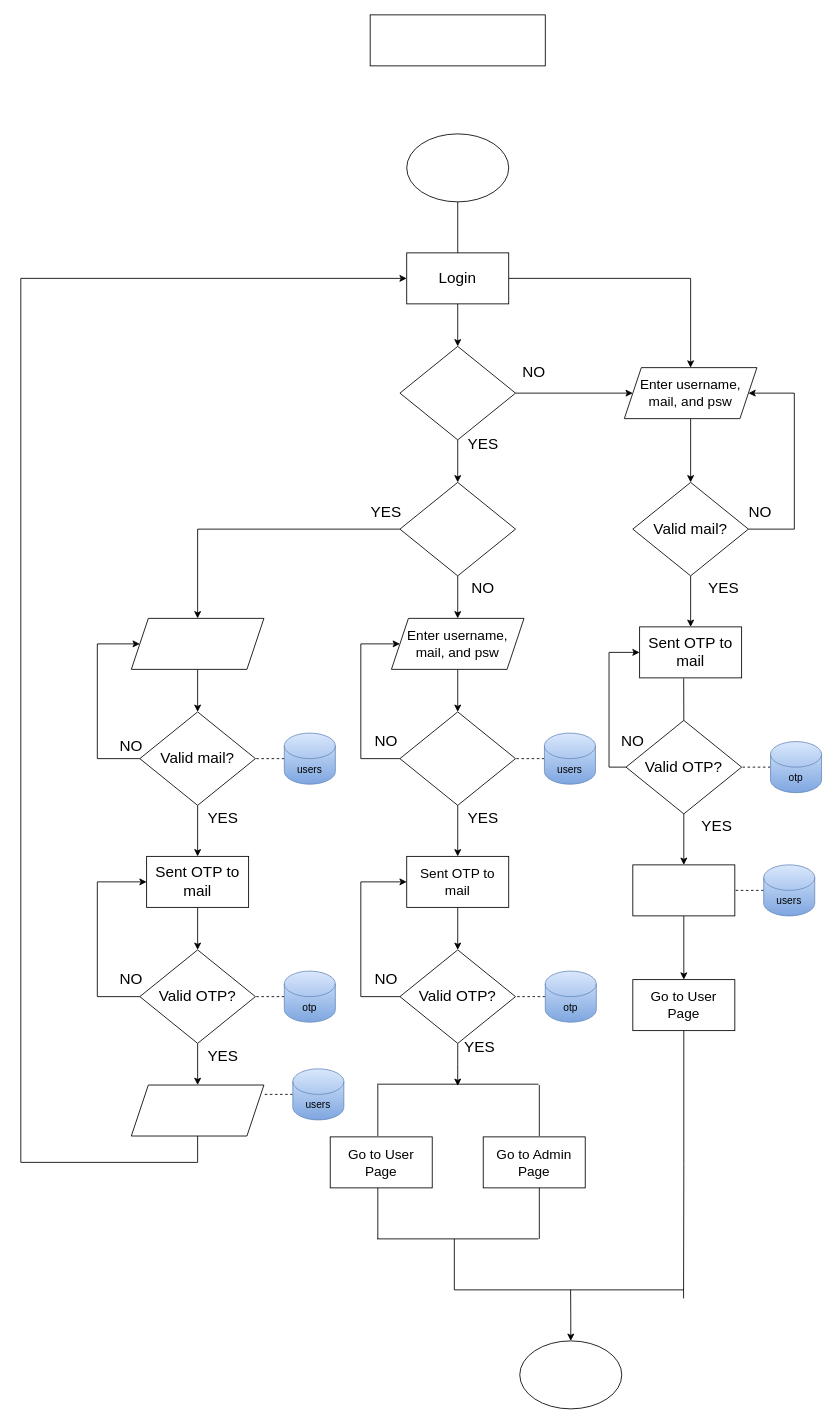
This 836x1424 diagram has some shape labels left out. Each missing label, with the centre of its shape:
Already Sign up?: the point at 457,393
Create Profile: the point at 683,890
End: the point at 570,1374
Enter new password: the point at 197,1110
Enter username & mail: the point at 197,643
Forgot PSW?: the point at 457,529
LOGIN FLOWCHART: the point at 457,40
Start: the point at 457,167
Valid User?: the point at 457,758
